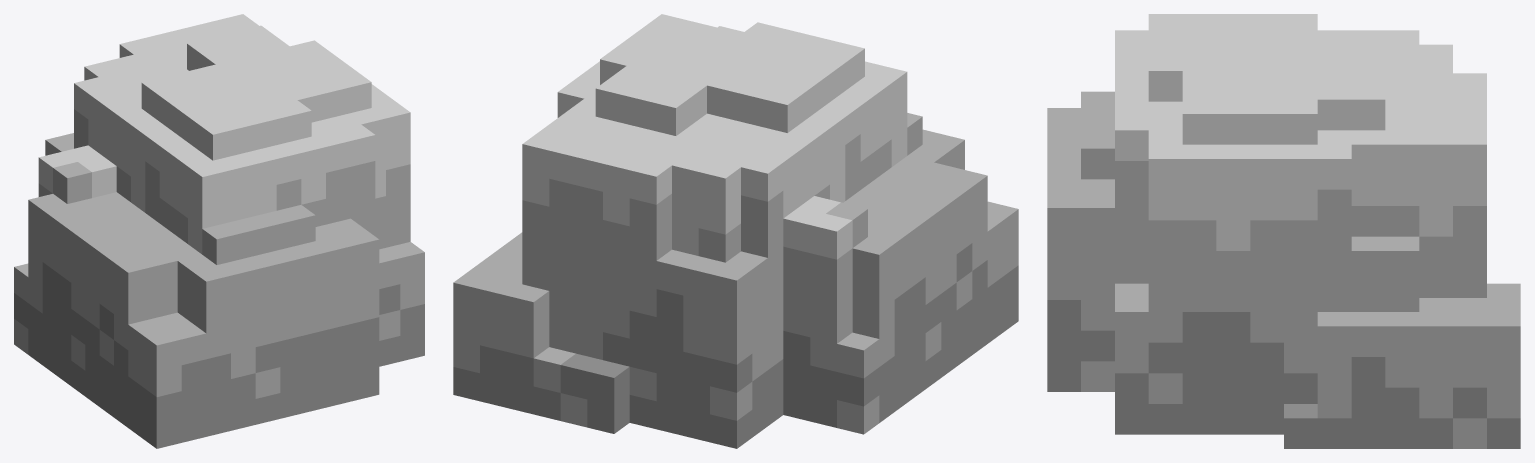
The model's file is Rock1.fbx.
3 renders of one model, left to right at view 1: azimuth 30°, elevation 25°; view 2: azimuth 150°, elevation 25°; view 3: azimuth 270°, elevation 25°, orthographic. The views are drawn at different scales.
Parts seen in each view (by area): view 1: Rock1; view 2: Rock1; view 3: Rock1.
Boxes of the visible parts, x1=… form: Rock1: x1=14, y1=14, x2=424, y2=448; Rock1: x1=453, y1=14, x2=1018, y2=448; Rock1: x1=1047, y1=14, x2=1520, y2=448.
Size of the model in its own units: 13 by 10 by 14.
